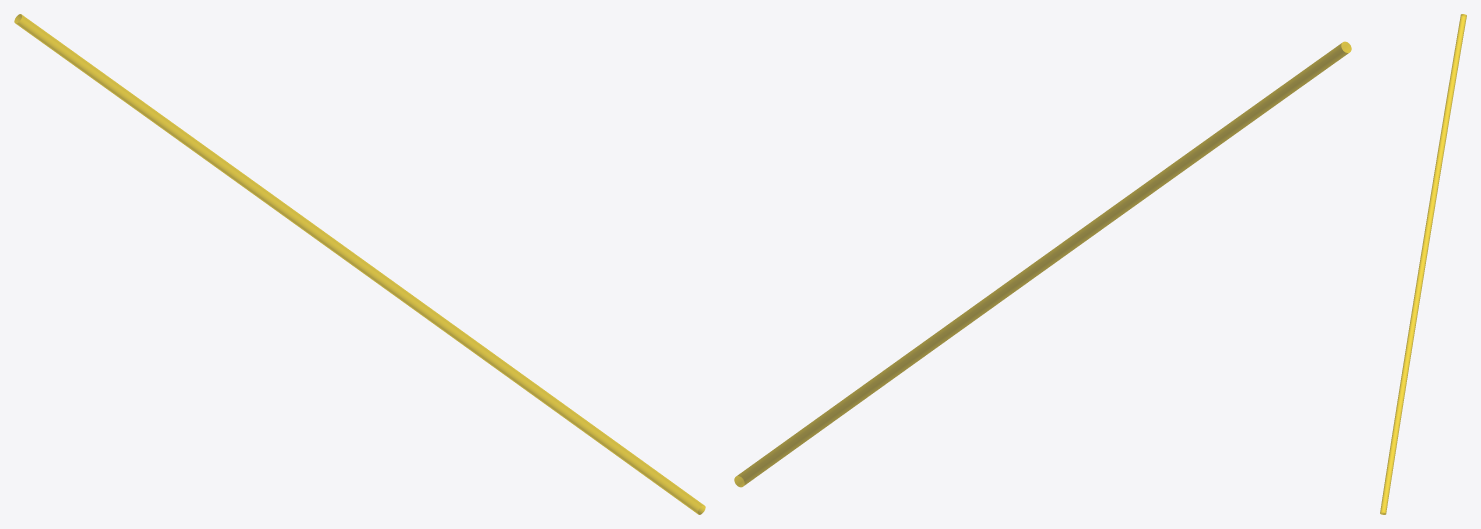
File: Event_402970704_track_17.fbx
3 renders of one model, left to right at view 1: azimuth 30°, elevation 25°; view 2: azimuth 150°, elevation 25°; view 3: azimuth 270°, elevation 25°, orthographic. The views are drawn at different scales.
Parts seen in each view (by area): view 1: Model; view 2: Model; view 3: Model.
Boxes of the visible parts, x1=… form: Model: x1=14, y1=14, x2=705, y2=514; Model: x1=734, y1=41, x2=1351, y2=487; Model: x1=1380, y1=14, x2=1466, y2=514.
Size of the model in its own units: 2.57 by 2.37 by 0.5567.
